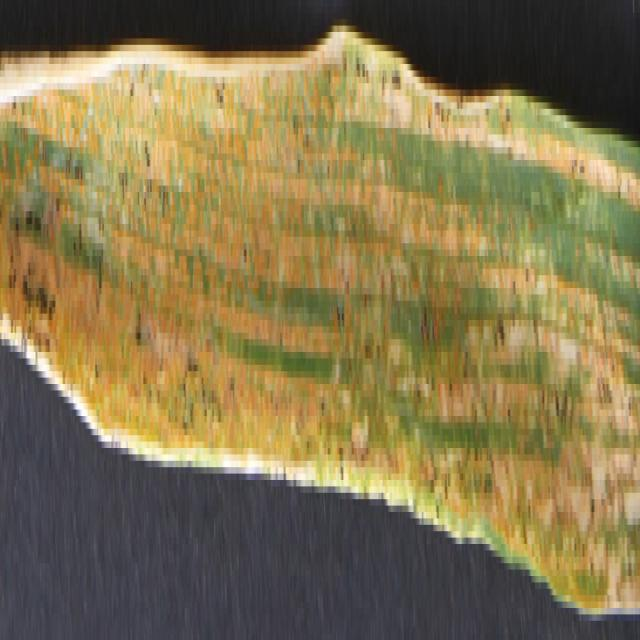leaf rust: (1, 19, 636, 595)
